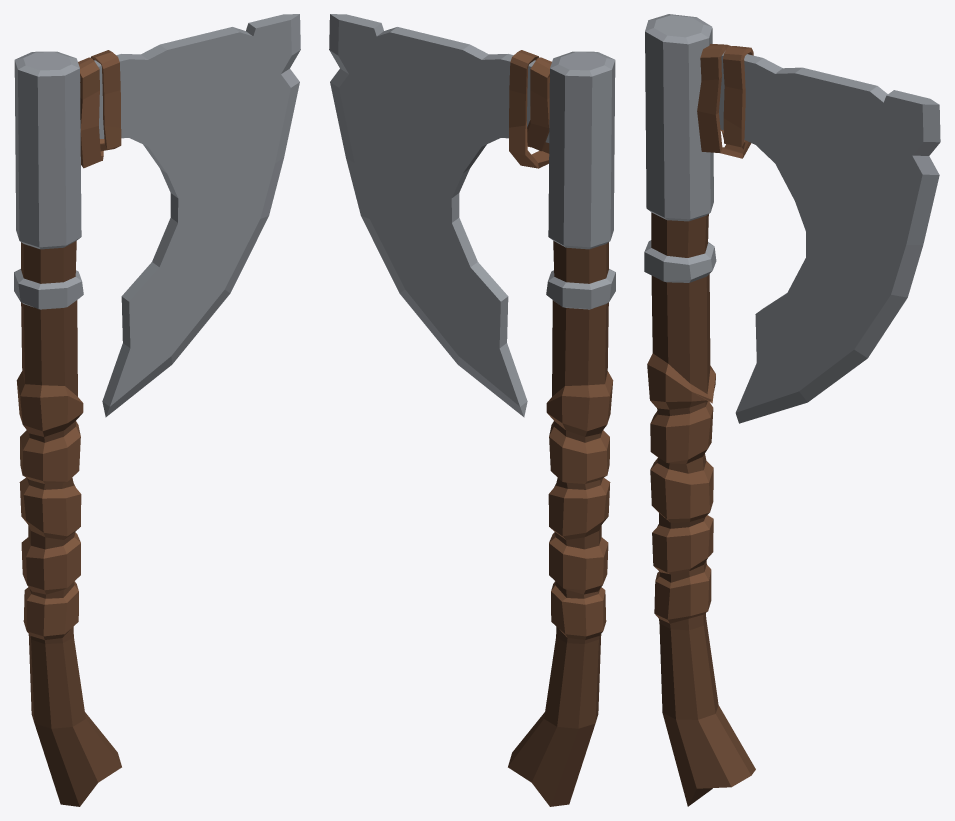
Rendered from quaternius-medieval-weapons-axe-small.glb.
3 views of the same model, side by side, from view 1: azimuth 30°, elevation 25°; view 2: azimuth 150°, elevation 25°; view 3: azimuth 330°, elevation 25° (orthographic). The views are drawn at different scales.
Visible parts, largest first — view 1: Axe_small; view 2: Axe_small; view 3: Axe_small.
Part boxes in pixels (<box>): Axe_small: <box>14,14,300,806</box>; Axe_small: <box>329,14,615,806</box>; Axe_small: <box>644,14,940,806</box>.
Size of the model in its own units: 1.17 by 2.96 by 0.2483.
